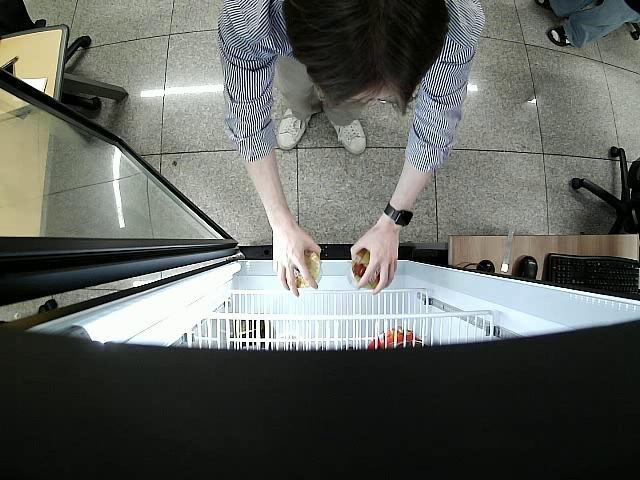04_chapagetti_S: (353, 250, 395, 287), (285, 250, 324, 287)
